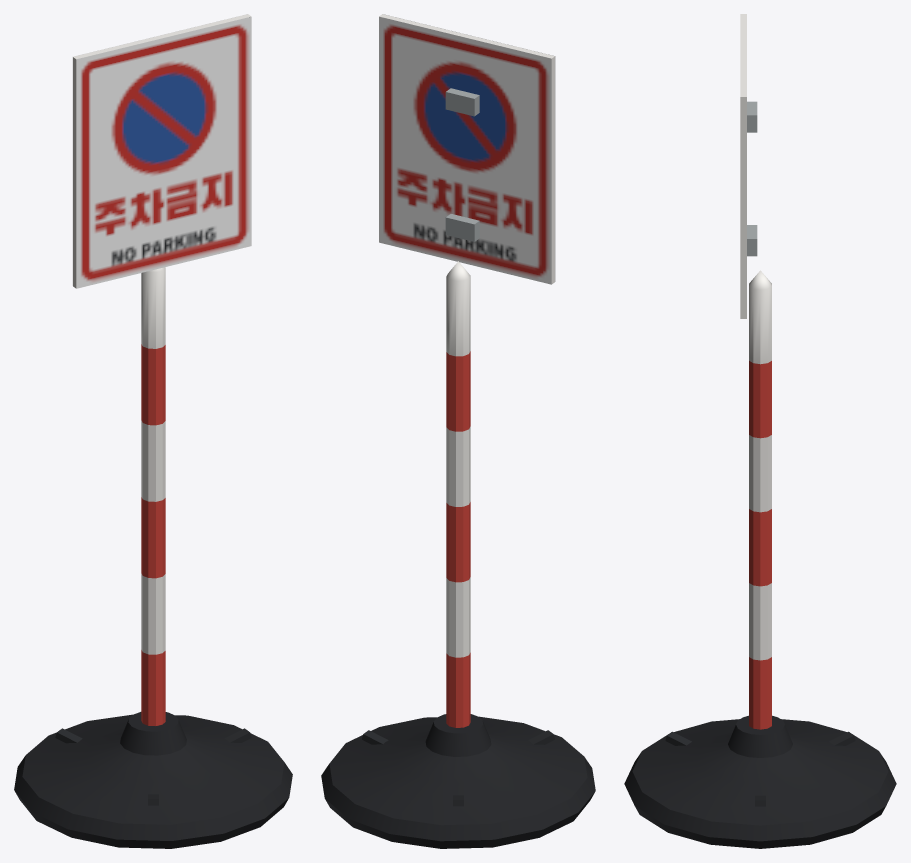
Rendered from SC_Util_NoParking_Stand.gltf.
The picture shows the model from 3 angles, left to right: view 1: azimuth 30°, elevation 25°; view 2: azimuth 150°, elevation 25°; view 3: azimuth 270°, elevation 25°; orthographic projection. The views are drawn at different scales.
Parts seen in each view (by area): view 1: SC_Util_NoParking_Stand; view 2: SC_Util_NoParking_Stand; view 3: SC_Util_NoParking_Stand.
Boxes of the visible parts, x1=… form: SC_Util_NoParking_Stand: x1=14, y1=14, x2=292, y2=848; SC_Util_NoParking_Stand: x1=321, y1=14, x2=595, y2=848; SC_Util_NoParking_Stand: x1=624, y1=14, x2=896, y2=848.
Bounding box in the file's own units: 0.5 × 1.5 × 0.5.
2 materials, 2 textured.
